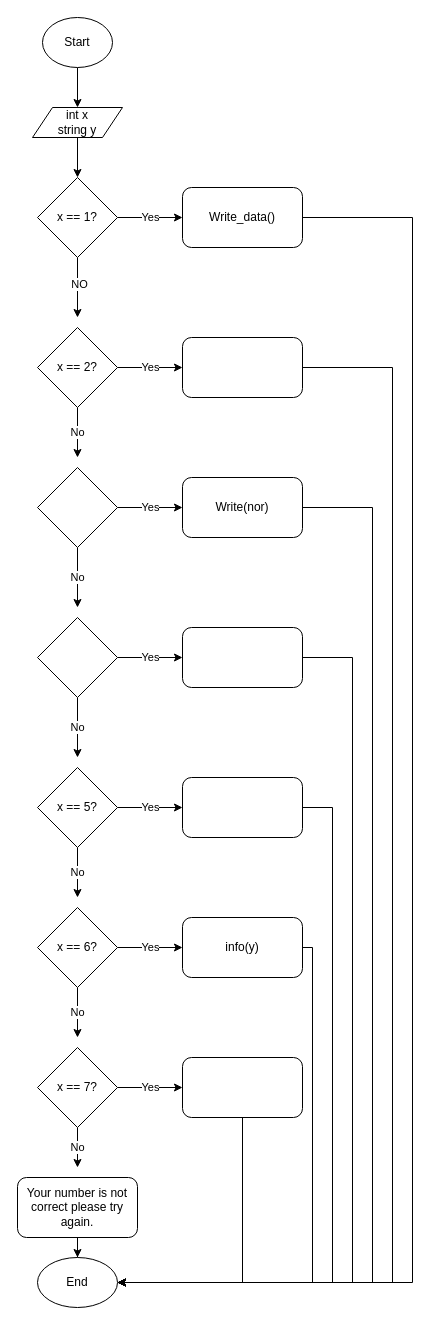
Image size: 438x1325. Some labels were removed from this diagram. Each missing label, with the centre of its shape:
statistics(): [242,807]
Thank you: [242,1087]
Write_grades(): [242,367]
Write_symbol(): [242,657]
x == 3?: [77,507]
x == 4?: [77,657]
